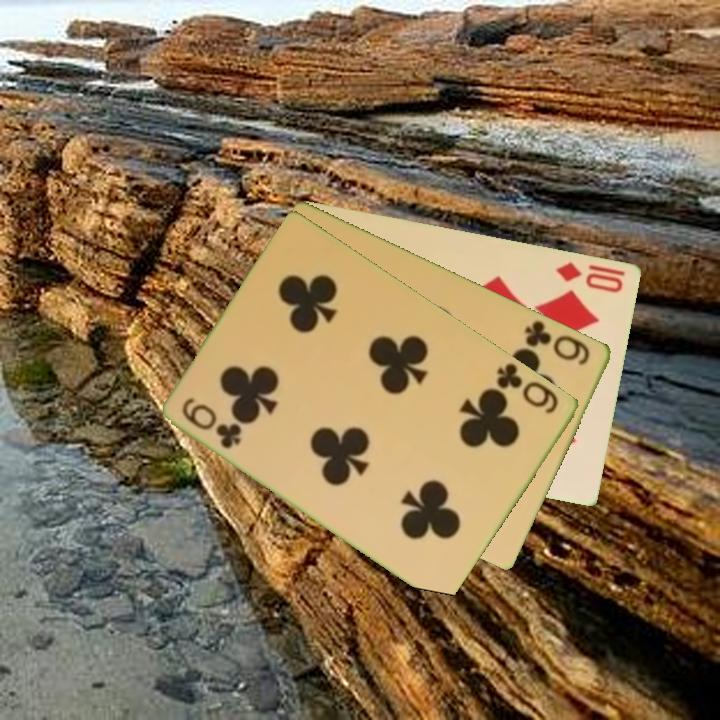10d: (552, 258, 628, 295)
6c: (493, 359, 562, 417), (179, 394, 246, 452), (521, 316, 594, 369)
